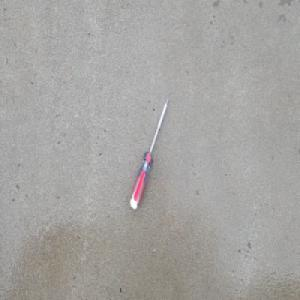Screwdriver: (129, 94, 170, 211)
